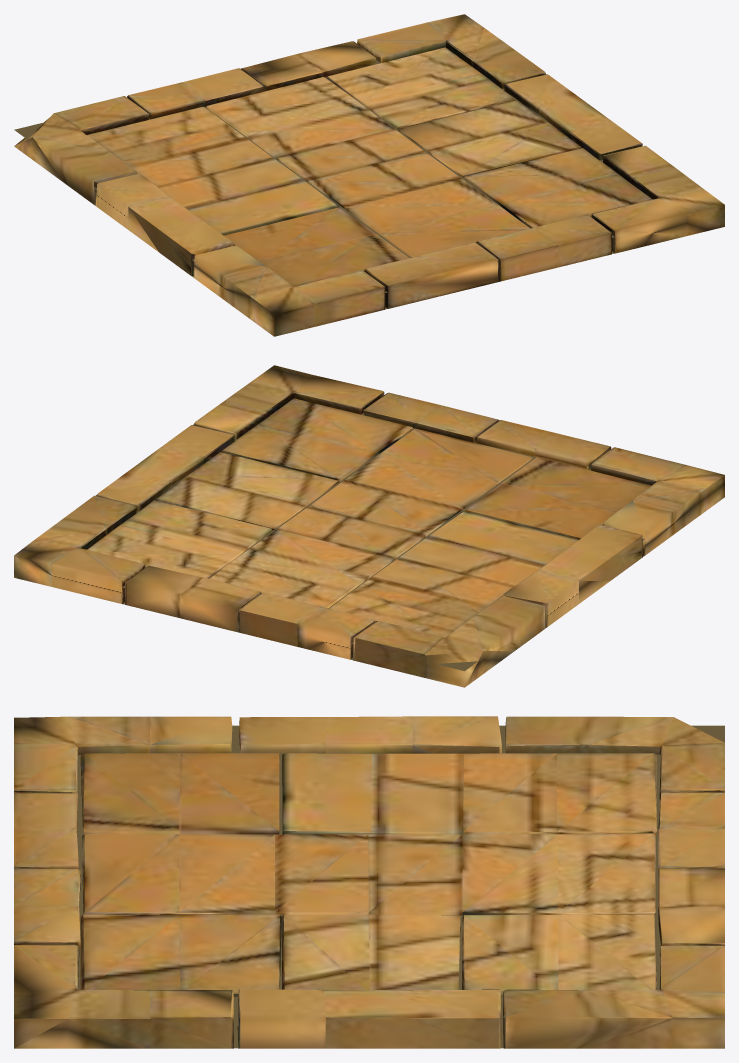
File: floor-stone.lod1.glb
3 views of the same model, one above another, from view 1: azimuth 30°, elevation 25°; view 2: azimuth 150°, elevation 25°; view 3: azimuth 270°, elevation 25° (orthographic). The views are drawn at different scales.
Size of the model in its own units: 2 by 0.0997 by 2.
Materials: 1 (1 with a texture image).
